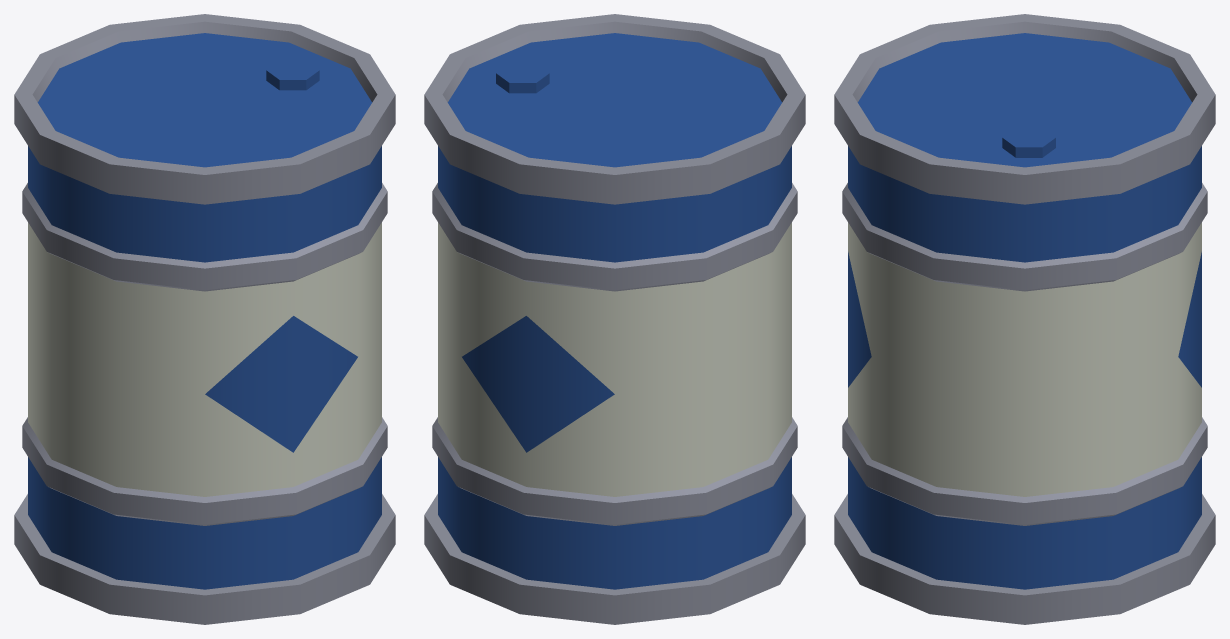
File: Barrel.fbx
3 views of the same model, side by side, from view 1: azimuth 30°, elevation 25°; view 2: azimuth 150°, elevation 25°; view 3: azimuth 270°, elevation 25° (orthographic).
Visible parts, largest first — view 1: ExplodingBarrel; view 2: ExplodingBarrel; view 3: ExplodingBarrel.
Part boxes in pixels (<box>): ExplodingBarrel: <box>14,14,395,624</box>; ExplodingBarrel: <box>424,14,805,624</box>; ExplodingBarrel: <box>834,14,1215,624</box>.
Size of the model in its own units: 1 by 1.3 by 1.
1 material, 1 textured.
